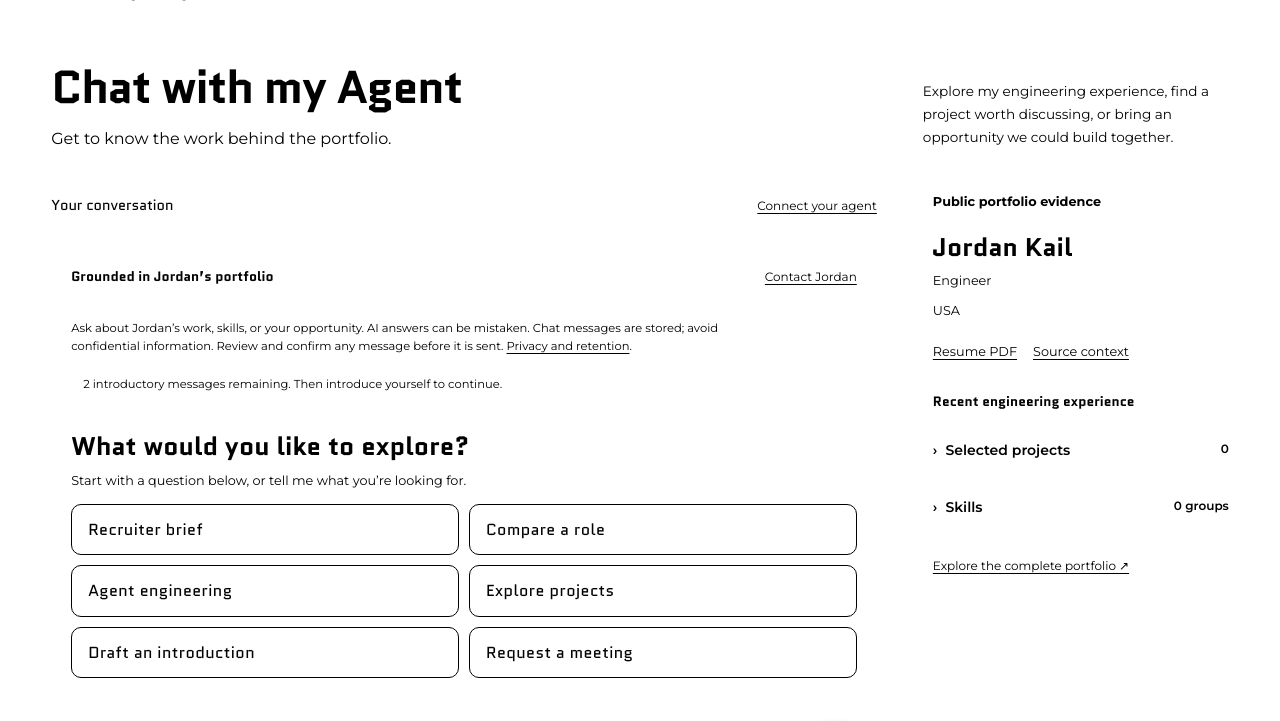
Test: shared assistant trial flow › shows an invitation before chatting and removes it when an introduction is required
Expected: the text "2 introductory messages remaining. Then introduce yourself to continue." is shown, [83,377,502,391]
Expected: the heading "What would you like to explore?" is shown, [71,428,470,464]
Click the button "Recruiter brief" at (146, 529), box [71,504,459,555]
(page scrolled)
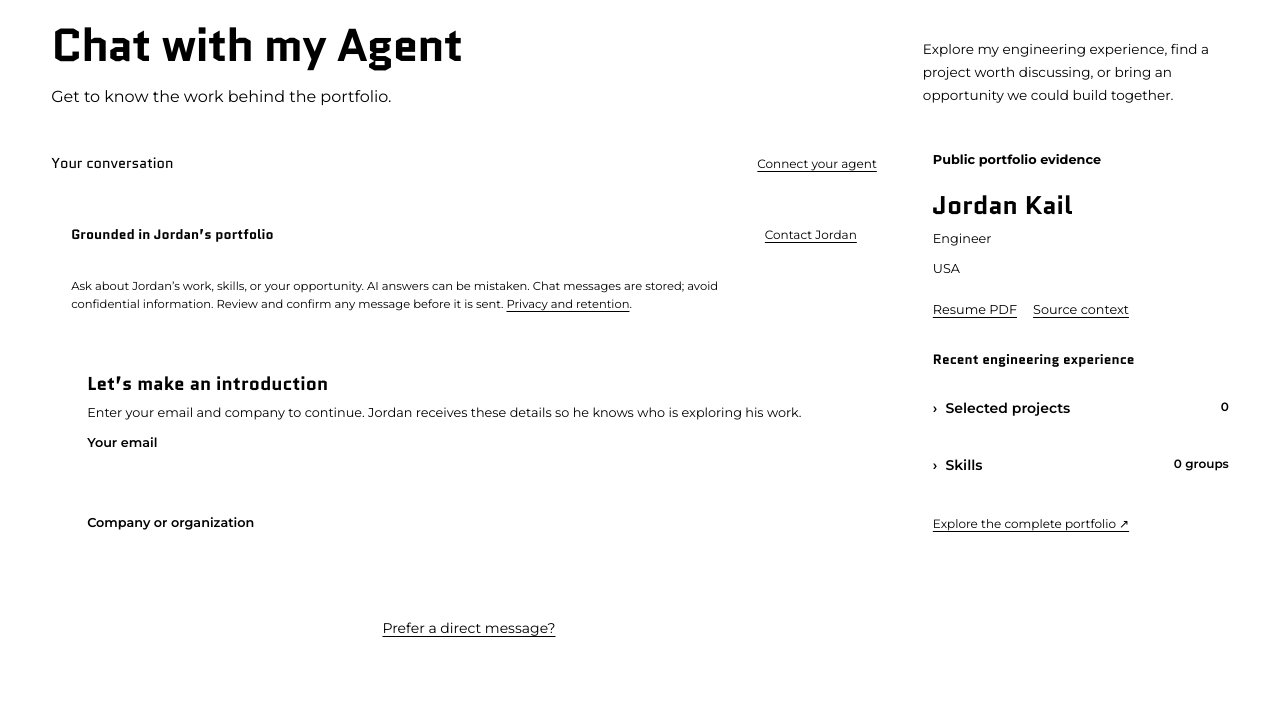
Expected: the heading "What would you like to explore?" is gone
